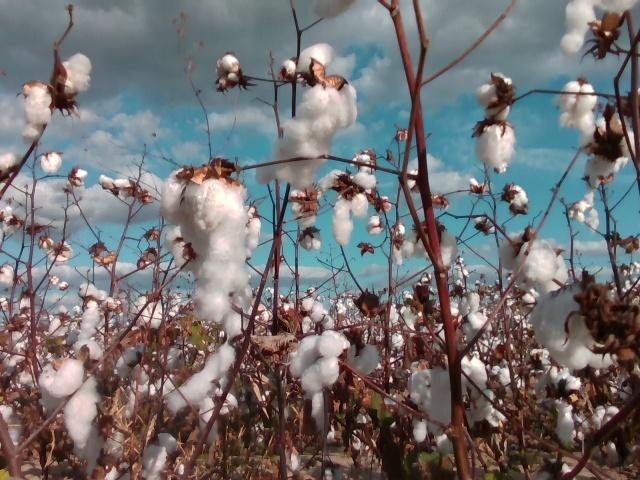cotton_ready: (254, 75, 356, 186), (42, 342, 128, 469), (184, 176, 249, 317), (166, 316, 244, 411), (531, 289, 617, 369), (316, 169, 377, 244), (499, 230, 570, 292), (562, 0, 640, 55), (428, 359, 486, 428), (290, 331, 351, 392), (70, 281, 121, 351), (584, 116, 636, 184), (410, 369, 451, 449), (538, 369, 580, 442), (197, 390, 238, 446), (141, 434, 188, 480), (556, 81, 595, 134), (302, 389, 340, 442), (475, 122, 514, 172), (159, 168, 195, 220), (479, 72, 515, 121), (410, 226, 455, 265), (296, 41, 334, 83), (22, 86, 52, 139), (165, 226, 199, 269), (60, 52, 91, 98), (338, 344, 379, 375), (129, 295, 166, 327), (216, 55, 242, 90), (243, 207, 262, 254)
